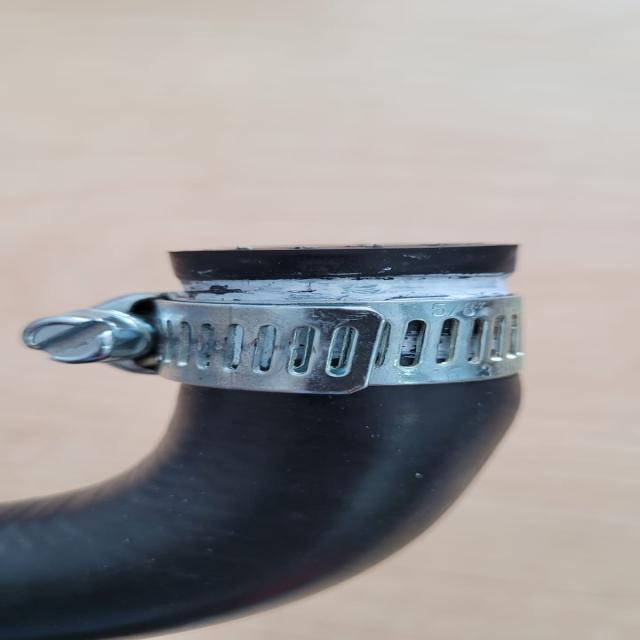clamp: (24, 301, 530, 392)
pipe: (173, 251, 527, 301)
